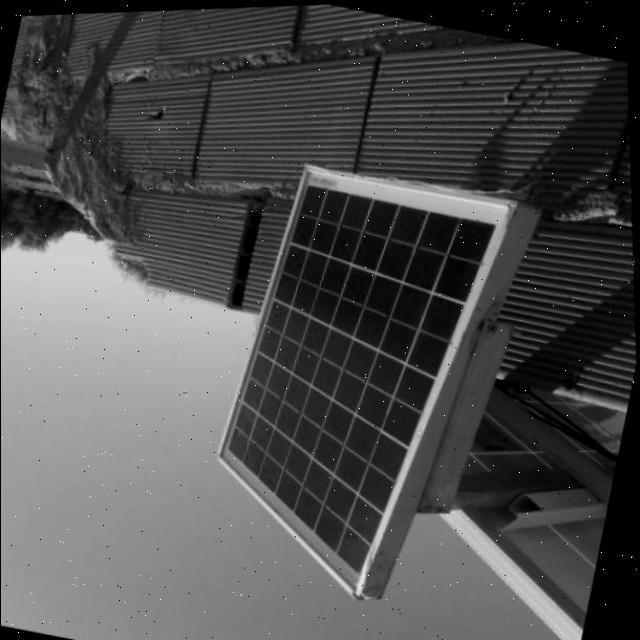Normal Solar Panel: (187, 151, 525, 618)
